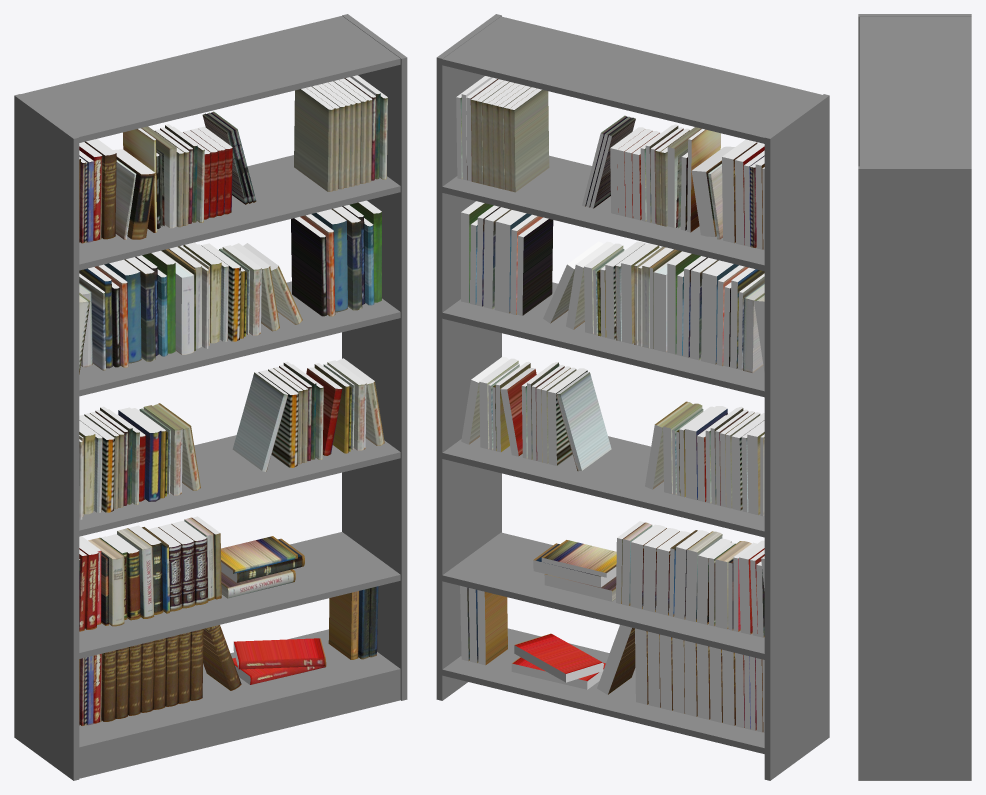
The model's file is Bookshelf 2.fbx.
3 views of the same model, side by side, from view 1: azimuth 30°, elevation 25°; view 2: azimuth 150°, elevation 25°; view 3: azimuth 270°, elevation 25° (orthographic). The views are drawn at different scales.
Parts seen in each view (by area): view 1: bookshelf 2, books; view 2: bookshelf 2, books; view 3: bookshelf 2.
Boxes of the visible parts, left/top/right/bottom form: bookshelf 2: left=14, top=14, right=407, bottom=780; books: left=79, top=75, right=387, bottom=725; bookshelf 2: left=436, top=14, right=829, bottom=780; books: left=456, top=76, right=764, bottom=732; bookshelf 2: left=858, top=14, right=971, bottom=780.
Bounding box in the file's own units: 118 × 216 × 36.32.
Materials: 2 (1 with a texture image).
